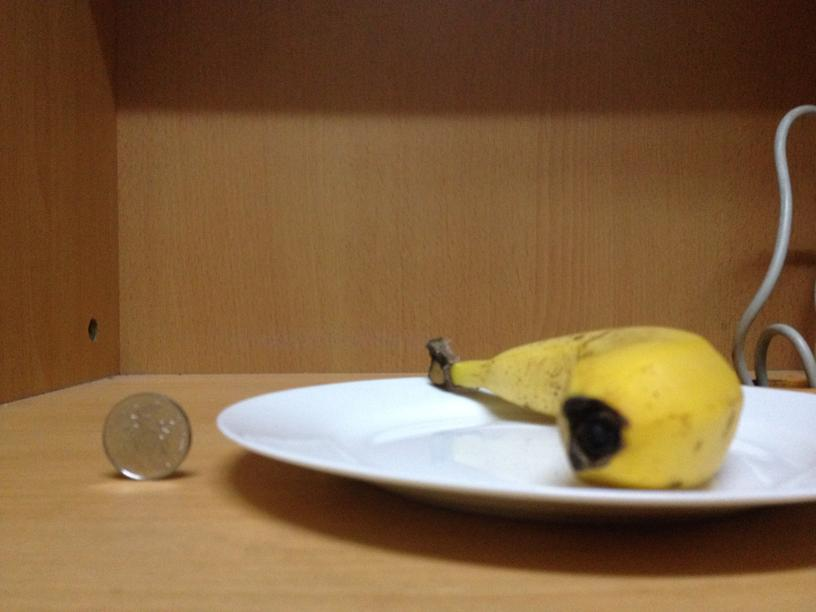banana: (435, 320, 745, 489)
coin: (105, 394, 191, 480)
